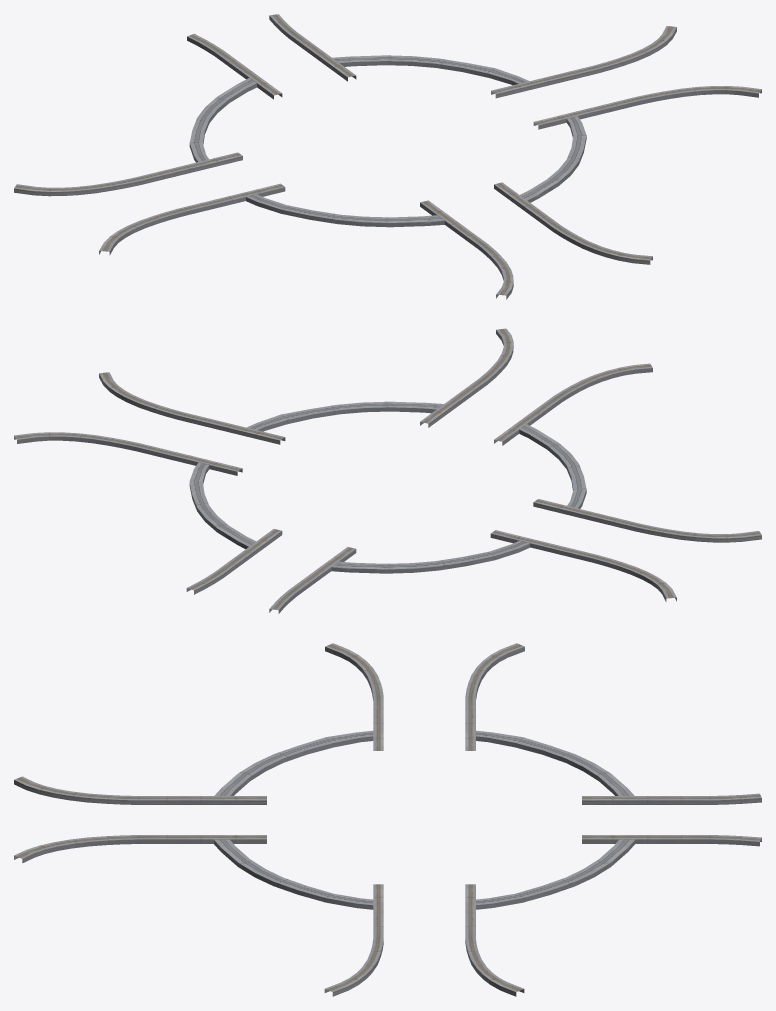
The model's file is zhucheng_di.FBX.
3 renders of one model, top to bottom at view 1: azimuth 30°, elevation 25°; view 2: azimuth 150°, elevation 25°; view 3: azimuth 270°, elevation 25°, orthographic. The views are drawn at different scales.
Parts seen in each view (by area): view 1: zhucheng_di; view 2: zhucheng_di; view 3: zhucheng_di.
Boxes of the visible parts, x1,y1,x2,y2 form: zhucheng_di: (14, 14, 761, 299); zhucheng_di: (14, 328, 761, 613); zhucheng_di: (14, 643, 761, 996).
Size of the model in its own units: 1532 by 1387 by 10.75.
